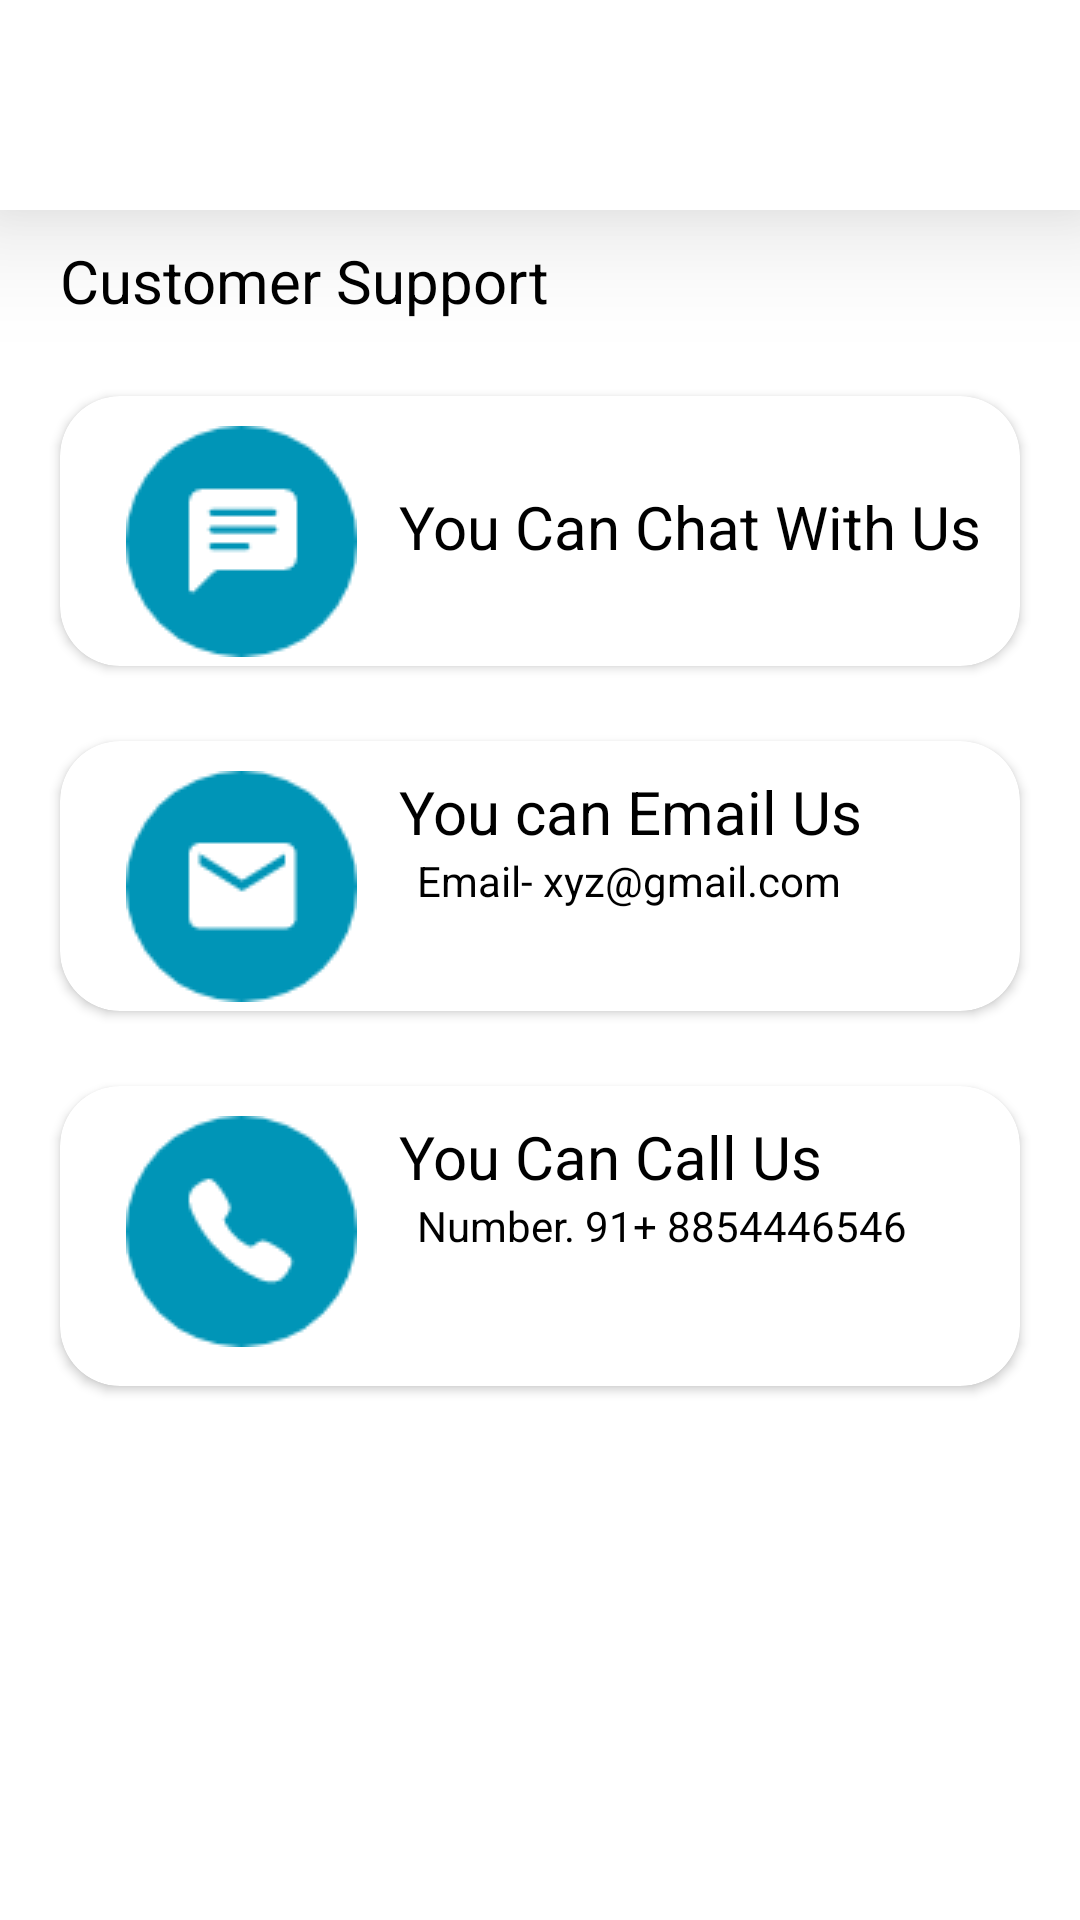

Icon bounding boxes for this 1080 × 1920 phone screenshot, format [x1, y1, x2, y2]:
emailbox: [126, 771, 357, 1002]
msgbox: [126, 426, 357, 657]
